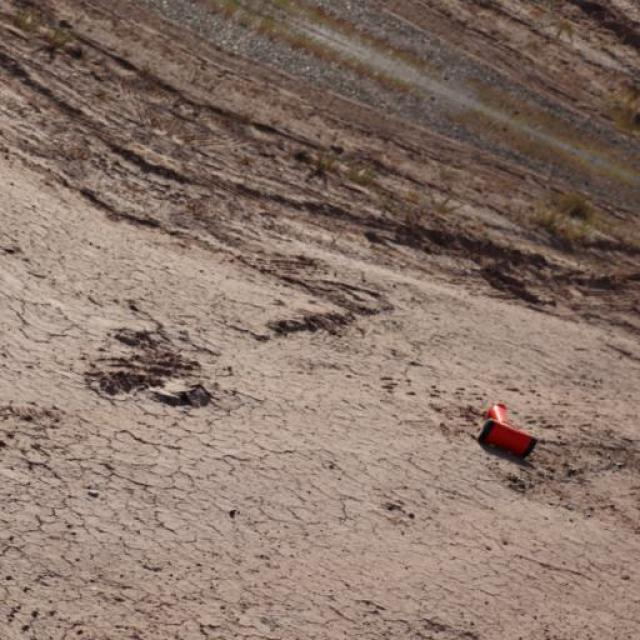mallet: (475, 401, 537, 460)
